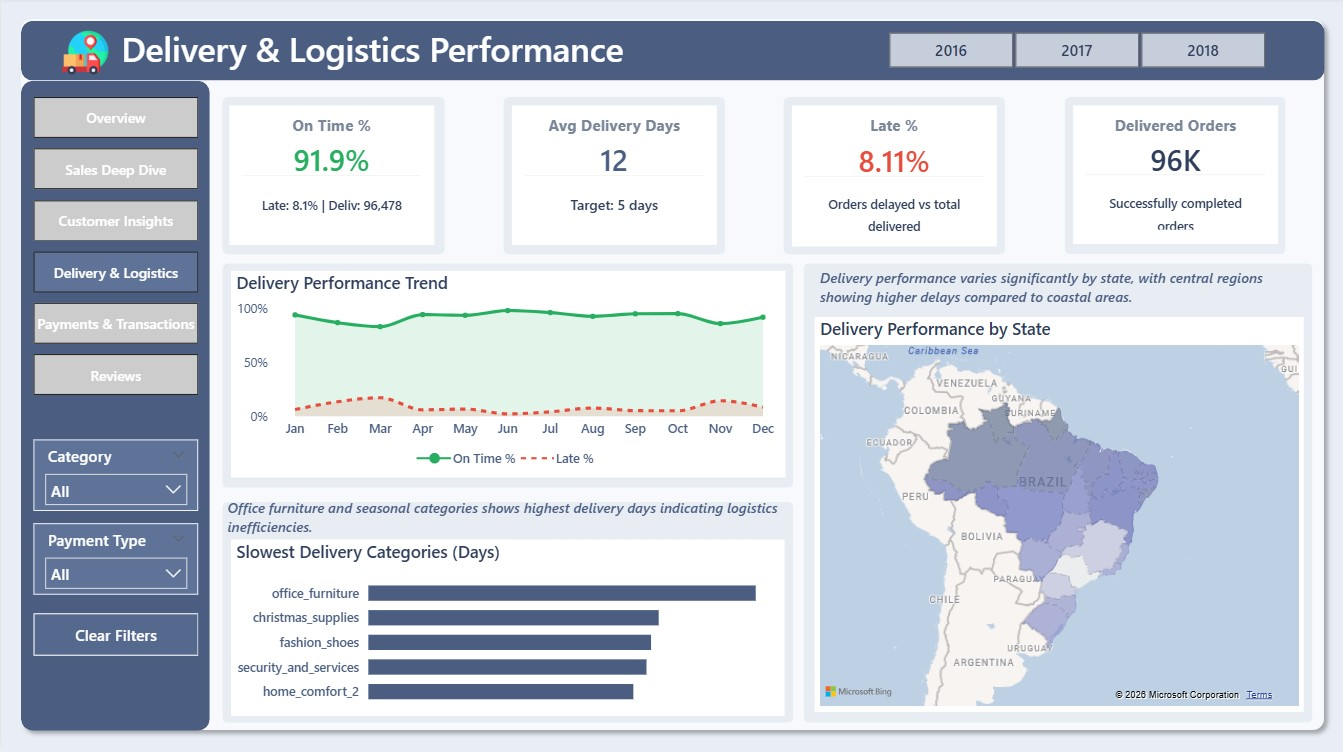

The dashboard page shown, as its layout file describes it:
{"tool":"powerbi","page":{"name":"Delivery & Logistics","canvas":[1280,720],"ordinal":3},"visuals":[{"type":"shape","box":[9.5,11.9,1259.5,695.2],"z":0},{"type":"shape","box":[19,22.6,1241.7,57.1],"z":1000},{"type":"textbox","box":[109.5,22.6,600,54.8],"z":2000},{"type":"slicer","fields":{"Values":["DimDate.Year"]},"box":[823.8,31,400,39.3],"z":3000},{"type":"shape","box":[19,79.8,179.8,619.1],"z":4000},{"type":"slicer","fields":{"Values":["bi_fact_sales_full.category"]},"box":[31,421.4,157.1,67.9],"z":5000},{"type":"slicer","fields":{"Values":["bi_fact_sales_full.payment_type"]},"box":[31,501.2,157.1,67.9],"z":6000},{"type":"actionButton","box":[31,586.9,157.1,40.5],"z":7000},{"type":"shape","box":[210.7,95.2,211.9,150],"z":8000},{"type":"shape","box":[1013.1,95.5,210.4,149.9],"z":9000},{"type":"cardVisual","fields":{"Data":["bi_fact_sales_full.Delivered Orders"]},"box":[1013.1,93.1,211.6,149.9],"z":10000},{"type":"shape","box":[478.7,95.2,211,150],"z":11000},{"type":"shape","box":[745.7,95.2,211,150],"z":12000},{"type":"cardVisual","fields":{"Data":["bi_fact_sales_full.On Time %"]},"box":[210,93.1,211.2,150.3],"z":13000},{"type":"cardVisual","fields":{"Data":["bi_fact_sales_full.Avg Delivery Days"]},"box":[478.2,92.9,210.7,150],"z":14000},{"type":"cardVisual","fields":{"Data":["bi_fact_sales_full.Late %"]},"box":[744.7,93.1,211.6,152.3],"z":15000},{"type":"shape","box":[210.4,253.9,544,214],"z":16000},{"type":"shape","box":[210.4,481.1,544,210.4],"z":17000},{"type":"lineChart","title":"Delivery Performance Trend","fields":{"Category":["DimDate.Month"],"Y":["bi_fact_sales_full.On Time %","bi_fact_sales_full.Late %"]},"box":[218.8,261.1,528,197],"z":18000},{"type":"shape","box":[764,253.9,484.8,437.6],"z":19000},{"type":"filledMap","title":"Delivery Performance by State","fields":{"Category":["bi_fact_sales_full.State Name"]},"box":[774.9,304.2,465.9,376],"z":20000},{"type":"barChart","title":"Slowest Delivery Categories (Days)","fields":{"Category":["bi_fact_sales_full.category"],"Y":["bi_fact_sales_full.Avg Delivery Days"]},"box":[219.2,516.2,526.9,167.7],"z":21000},{"type":"textbox","box":[774.9,253.9,465.9,50.3],"z":22000},{"type":"textbox","box":[210.8,473.1,536.5,50.3],"z":23000},{"type":"pageNavigator","box":[31,95.2,157.1,284.5],"z":24000},{"type":"image","box":[31,31,98.8,44],"z":24001}]}

Visuals, with their boxes in screenshot pixels (x1, y1, x2, y2), scaled from the page's 1280x720 canvas onto the 1343x752 screenshot:
shape: (10,12,1331,739)
shape: (20,24,1323,83)
textbox: (115,24,744,81)
slicer - DimDate.Year: (864,32,1284,73)
shape: (20,83,209,730)
slicer - bi_fact_sales_full.category: (33,440,197,511)
slicer - bi_fact_sales_full.payment_type: (33,523,197,594)
actionButton: (33,613,197,655)
shape: (221,99,443,256)
shape: (1063,100,1284,256)
cardVisual - bi_fact_sales_full.Delivered Orders: (1063,97,1285,254)
shape: (502,99,724,256)
shape: (782,99,1004,256)
cardVisual - bi_fact_sales_full.On Time %: (220,97,442,254)
cardVisual - bi_fact_sales_full.Avg Delivery Days: (502,97,723,254)
cardVisual - bi_fact_sales_full.Late %: (781,97,1003,256)
shape: (221,265,792,489)
shape: (221,502,792,722)
"Delivery Performance Trend" lineChart: (230,273,784,478)
shape: (802,265,1310,722)
"Delivery Performance by State" filledMap: (813,318,1302,710)
"Slowest Delivery Categories (Days)" barChart: (230,539,783,714)
textbox: (813,265,1302,318)
textbox: (221,494,784,547)
pageNavigator: (33,99,197,397)
image: (33,32,136,78)
